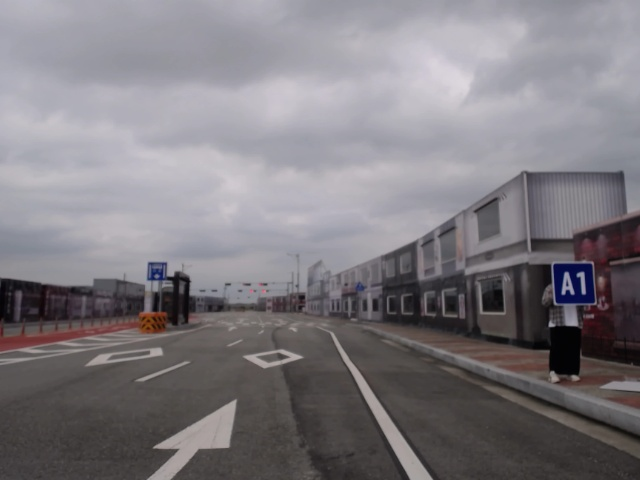delivery_a1: (552, 263, 597, 305)
